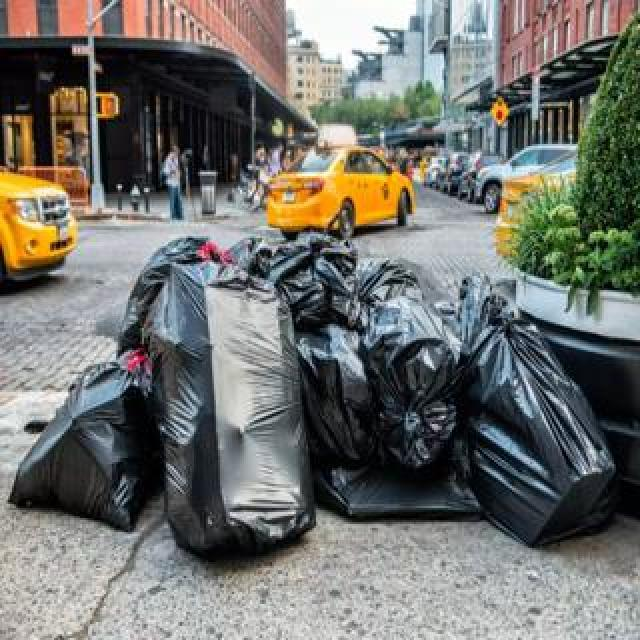high trash: (10, 234, 615, 553)
